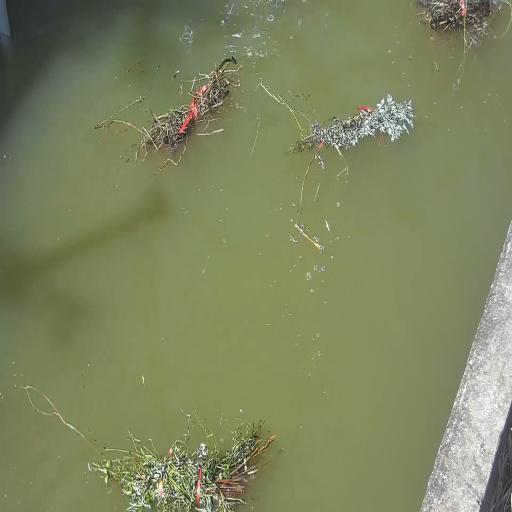twig: (92, 432, 266, 512), (140, 70, 240, 158), (288, 94, 412, 156), (413, 0, 491, 45)
